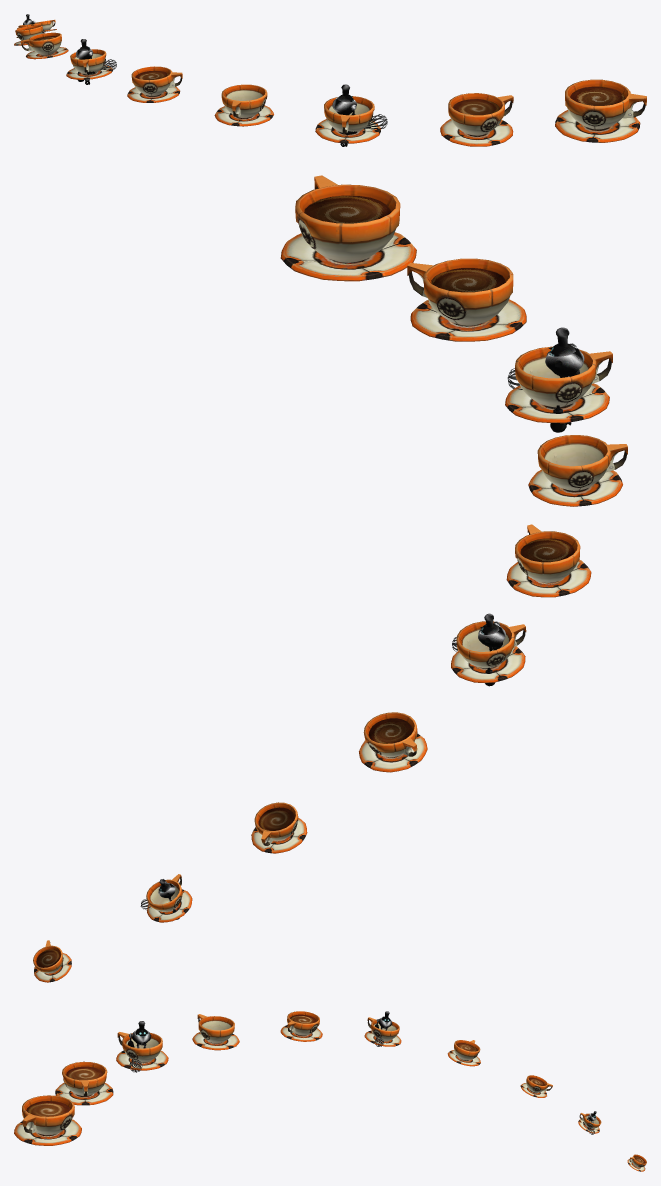
File: MotCup.obj
3 views of the same model, one above another, from view 1: azimuth 30°, elevation 25°; view 2: azimuth 150°, elevation 25°; view 3: azimuth 270°, elevation 25° (orthographic). The views are drawn at different scales.
Visible parts, largest first — view 1: polygon2, polygon4, polygon6, polygon13, polygon14, polygon16, polygon23, polygon3, polygon5, polygon25, polygon7, polygon15 (+1 smaller); view 2: polygon2, polygon4, polygon6, polygon13, polygon14, polygon16, polygon23, polygon3, polygon25, polygon5, polygon27; view 3: polygon2, polygon4, polygon6, polygon13, polygon14, polygon16, polygon23, polygon3, polygon25, polygon5, polygon27.
Boxes of the visible parts, x1,y1,x2,y2 form: polygon2: (555, 79, 646, 142); polygon4: (440, 93, 513, 146); polygon6: (315, 96, 380, 143); polygon13: (214, 84, 273, 126); polygon14: (127, 66, 182, 102); polygon16: (66, 49, 112, 79); polygon23: (20, 32, 68, 59); polygon3: (570, 86, 625, 105); polygon5: (453, 99, 499, 115); polygon25: (14, 25, 42, 45); polygon7: (332, 97, 356, 133); polygon15: (135, 71, 168, 80); polygon2: (280, 175, 416, 281); polygon4: (407, 258, 526, 341); polygon6: (505, 346, 612, 423); polygon13: (528, 435, 627, 506); polygon14: (506, 524, 591, 597); polygon16: (451, 621, 526, 682); polygon23: (359, 712, 427, 772); polygon3: (304, 195, 391, 223); polygon25: (251, 802, 307, 853); polygon5: (431, 268, 505, 292); polygon27: (146, 874, 192, 922); polygon2: (14, 1095, 81, 1145); polygon4: (55, 1061, 113, 1105); polygon6: (116, 1032, 168, 1070); polygon13: (192, 1014, 239, 1050); polygon14: (280, 1011, 322, 1041); polygon16: (364, 1017, 401, 1046); polygon23: (447, 1040, 480, 1066); polygon3: (26, 1101, 70, 1116); polygon25: (520, 1075, 552, 1097); polygon5: (66, 1066, 103, 1080); polygon27: (578, 1113, 601, 1133).
Bounding box in the file's own units: 123 × 60.15 × 239.
Materials: 7 (7 with a texture image).
